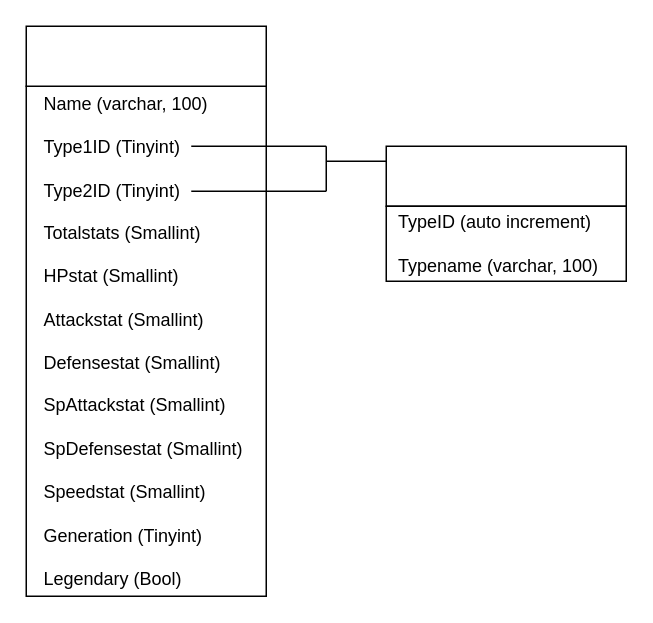
Some shapes in this 653 by 623 pixel diagram are drawn without their labels. The centre of each missing label's shape, as x and y in pixels:
"pokemon_details" goes at (x=145, y=55).
"type_data" goes at (x=505, y=175).
